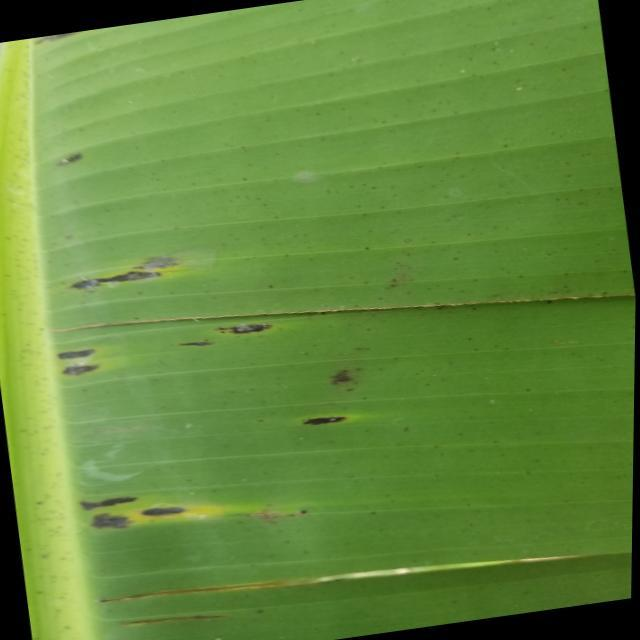Early_rust: (20, 246, 385, 554), (30, 140, 108, 191)
